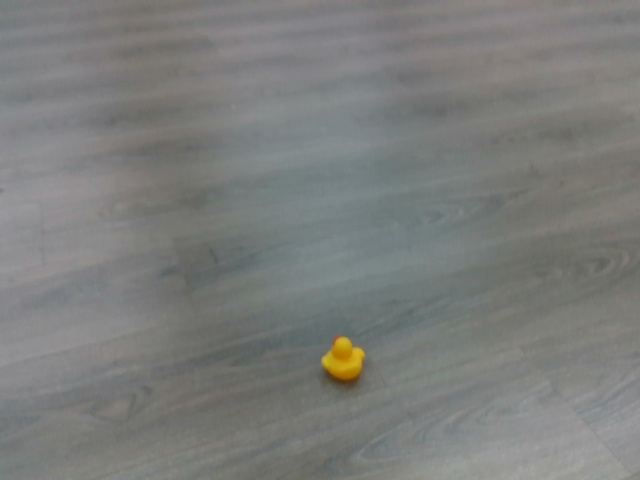duck: (314, 333, 370, 385)
